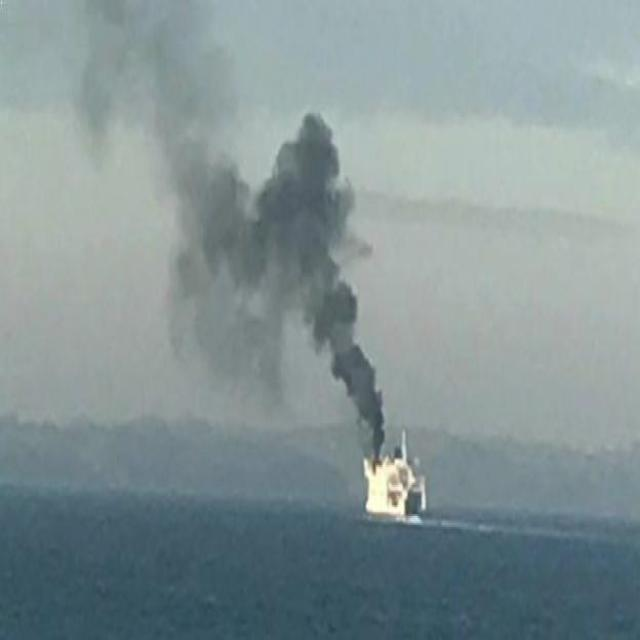Fire: (366, 459, 421, 516)
Smoke: (271, 162, 334, 288)
